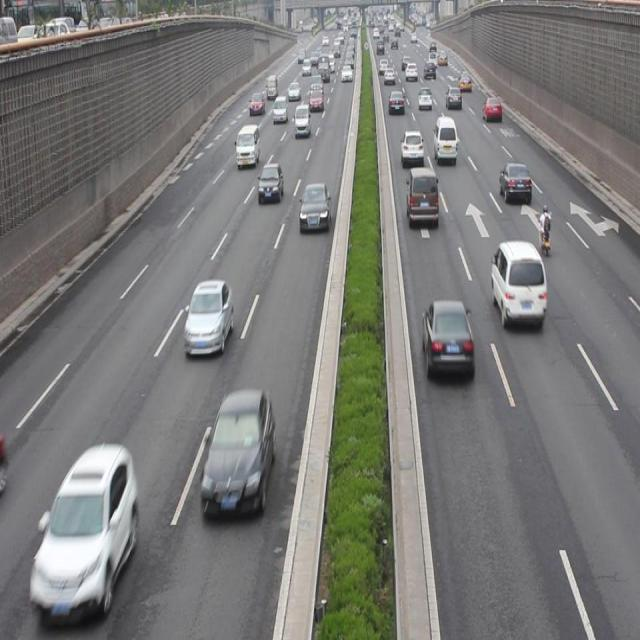car: (30, 436, 139, 615), (200, 389, 275, 514), (422, 297, 474, 380), (184, 280, 232, 356), (299, 182, 329, 232), (498, 160, 531, 204), (257, 161, 283, 202), (400, 126, 425, 166), (482, 96, 502, 122)
truck: (490, 240, 544, 328), (405, 165, 438, 227), (433, 114, 457, 164), (235, 122, 259, 166), (293, 104, 311, 136)
